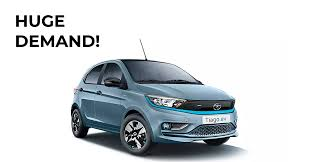Tiago: (68, 54, 240, 156)
